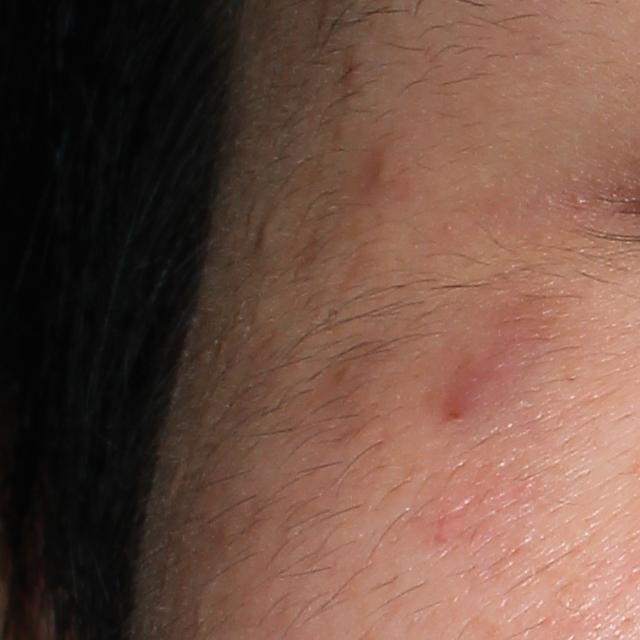papule: (371, 156, 393, 187)
